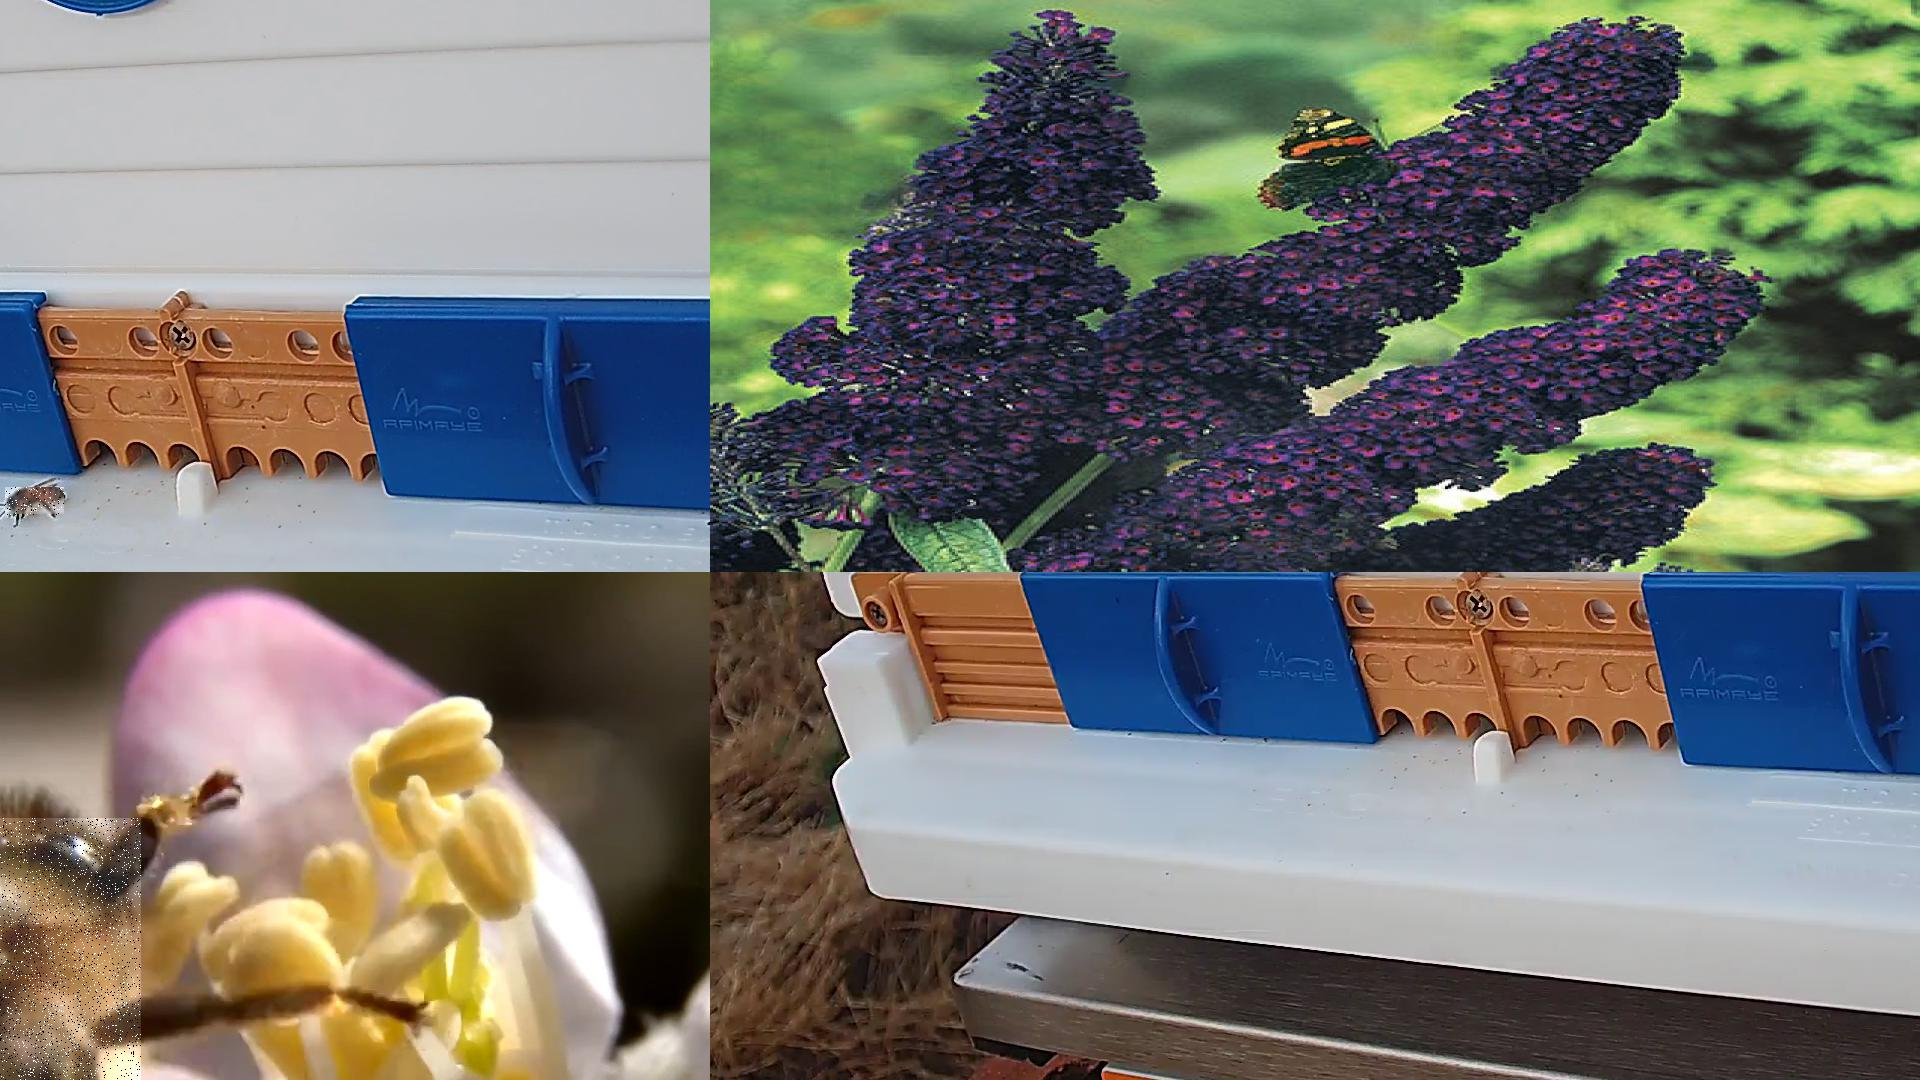bee: (0, 818, 142, 1079), (5, 488, 66, 517)
